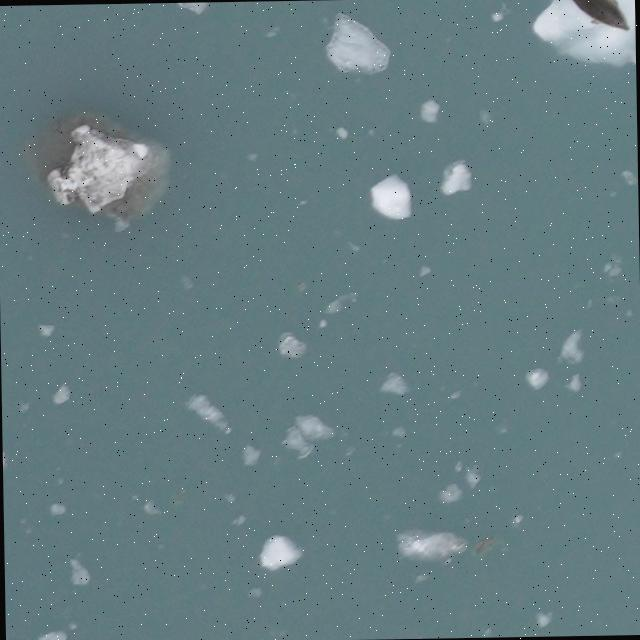seal: (559, 0, 634, 35)
